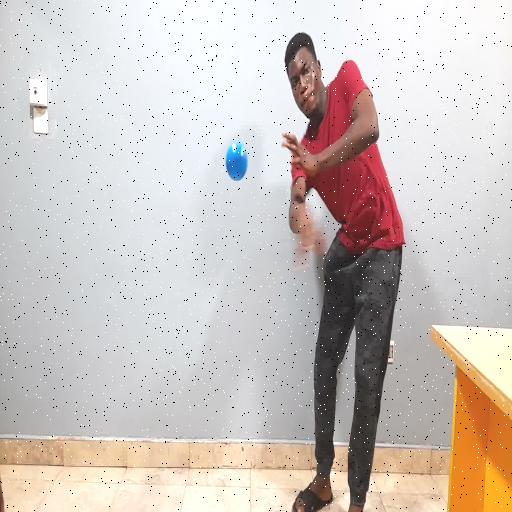plastic-ball: (226, 142, 247, 181)
